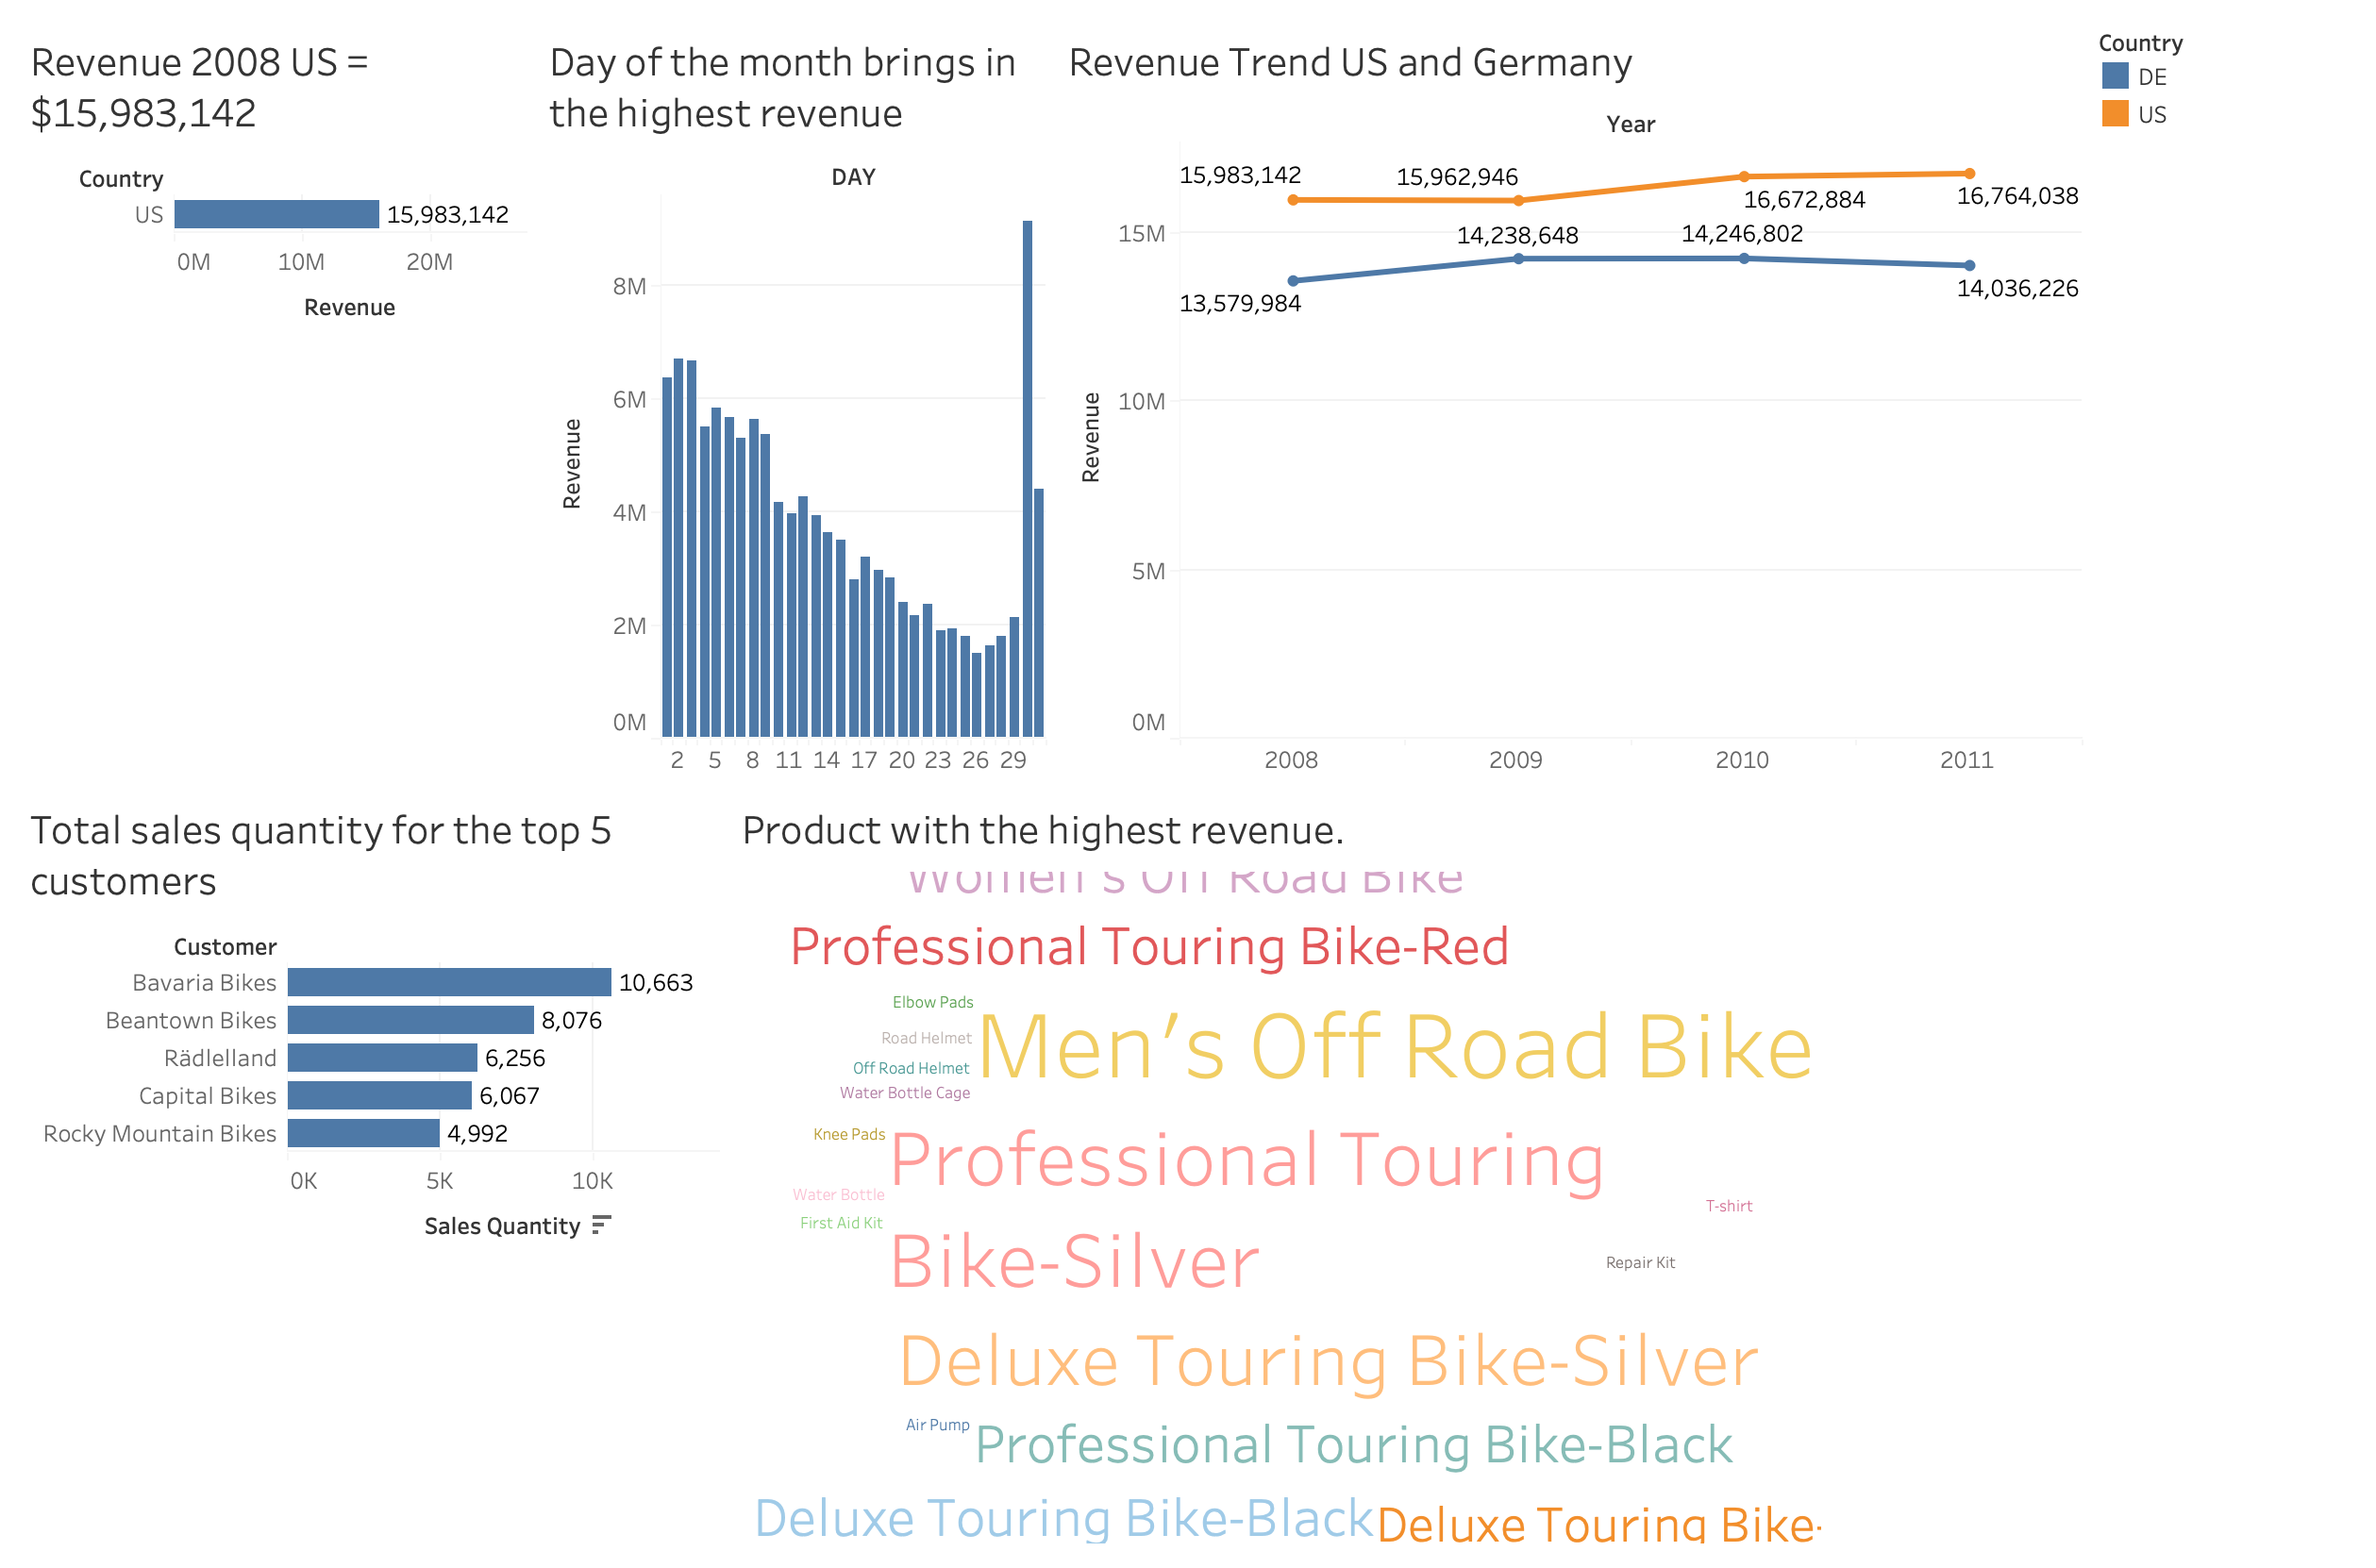

The dashboard page shown, as its layout file describes it:
{"tool":"tableau","page":{"name":"Dashboard 1","canvas":[1000,1000],"units":"permille","ordinal":0},"visuals":[{"type":"worksheet","title":"Revenue 2008 US","mark":"Automatic","rows":["Country"],"cols":["Revenue"],"box":[6.4,9.6,218.2,490.4]},{"type":"worksheet","title":"Day of the month brings in the highest revenue","mark":"Automatic","rows":["Revenue"],"cols":["DAY"],"box":[224.6,9.6,218.2,490.4]},{"type":"worksheet","title":"Revenue Trend US and Germany","mark":"Line","rows":["Revenue"],"cols":["YEAR"],"box":[442.8,9.6,436.5,490.4]},{"type":"legend","title":"Revenue Trend US and Germany","param":"[federated.1ca1k580ofbxs6142ft901swpwrn].[none:Country:nk]","box":[879.3,9.6,114.4,79.4]},{"type":"worksheet","title":"Total sales quantity for the top 5 customers","mark":"Automatic","rows":["Customer"],"cols":["SalesQuantity"],"box":[6.4,500,299.8,490.4]},{"type":"worksheet","title":"Product with the highest revenue.","mark":"Text","box":[306.1,500,573.1,490.4]}]}

Visuals, with their boxes on the dashboard's canvas, which has no fixed pixel size, in thousandths of its width and height (x1, y1, x2, y2). These are canvas units, not pixel positions in the 2376x1568 screenshot, which may show the page scaled, cropped or inside an application window:
"Revenue 2008 US" worksheet: {"x1": 6, "y1": 10, "x2": 225, "y2": 500}
"Day of the month brings in the highest revenue" worksheet: {"x1": 225, "y1": 10, "x2": 443, "y2": 500}
"Revenue Trend US and Germany" worksheet (Line marks): {"x1": 443, "y1": 10, "x2": 879, "y2": 500}
"Revenue Trend US and Germany" legend: {"x1": 879, "y1": 10, "x2": 994, "y2": 89}
"Total sales quantity for the top 5 customers" worksheet: {"x1": 6, "y1": 500, "x2": 306, "y2": 990}
"Product with the highest revenue." worksheet (Text marks): {"x1": 306, "y1": 500, "x2": 879, "y2": 990}
